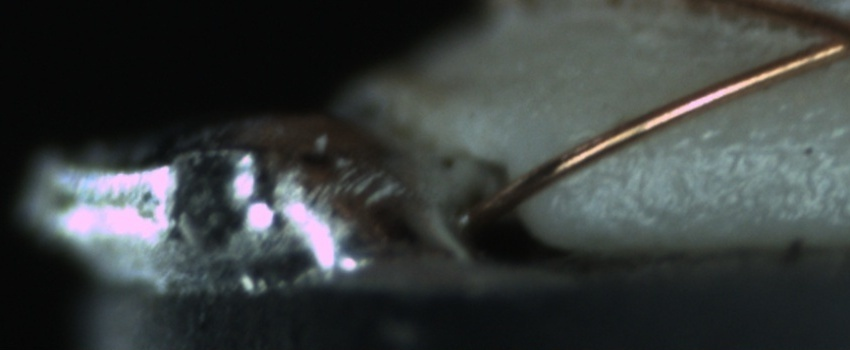DL: (679, 109, 849, 175)
